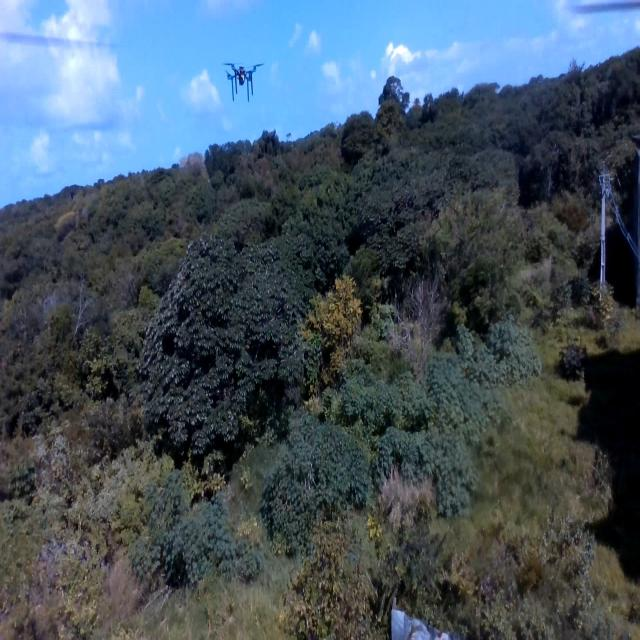-uav-: (218, 52, 272, 112)
